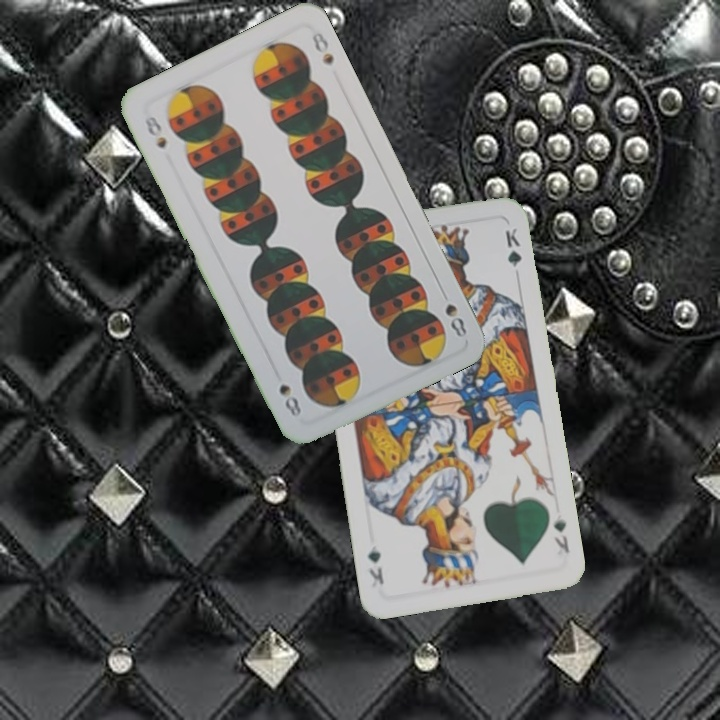GK: (549, 515, 572, 556)
S8: (441, 299, 470, 341), (140, 112, 170, 151)
